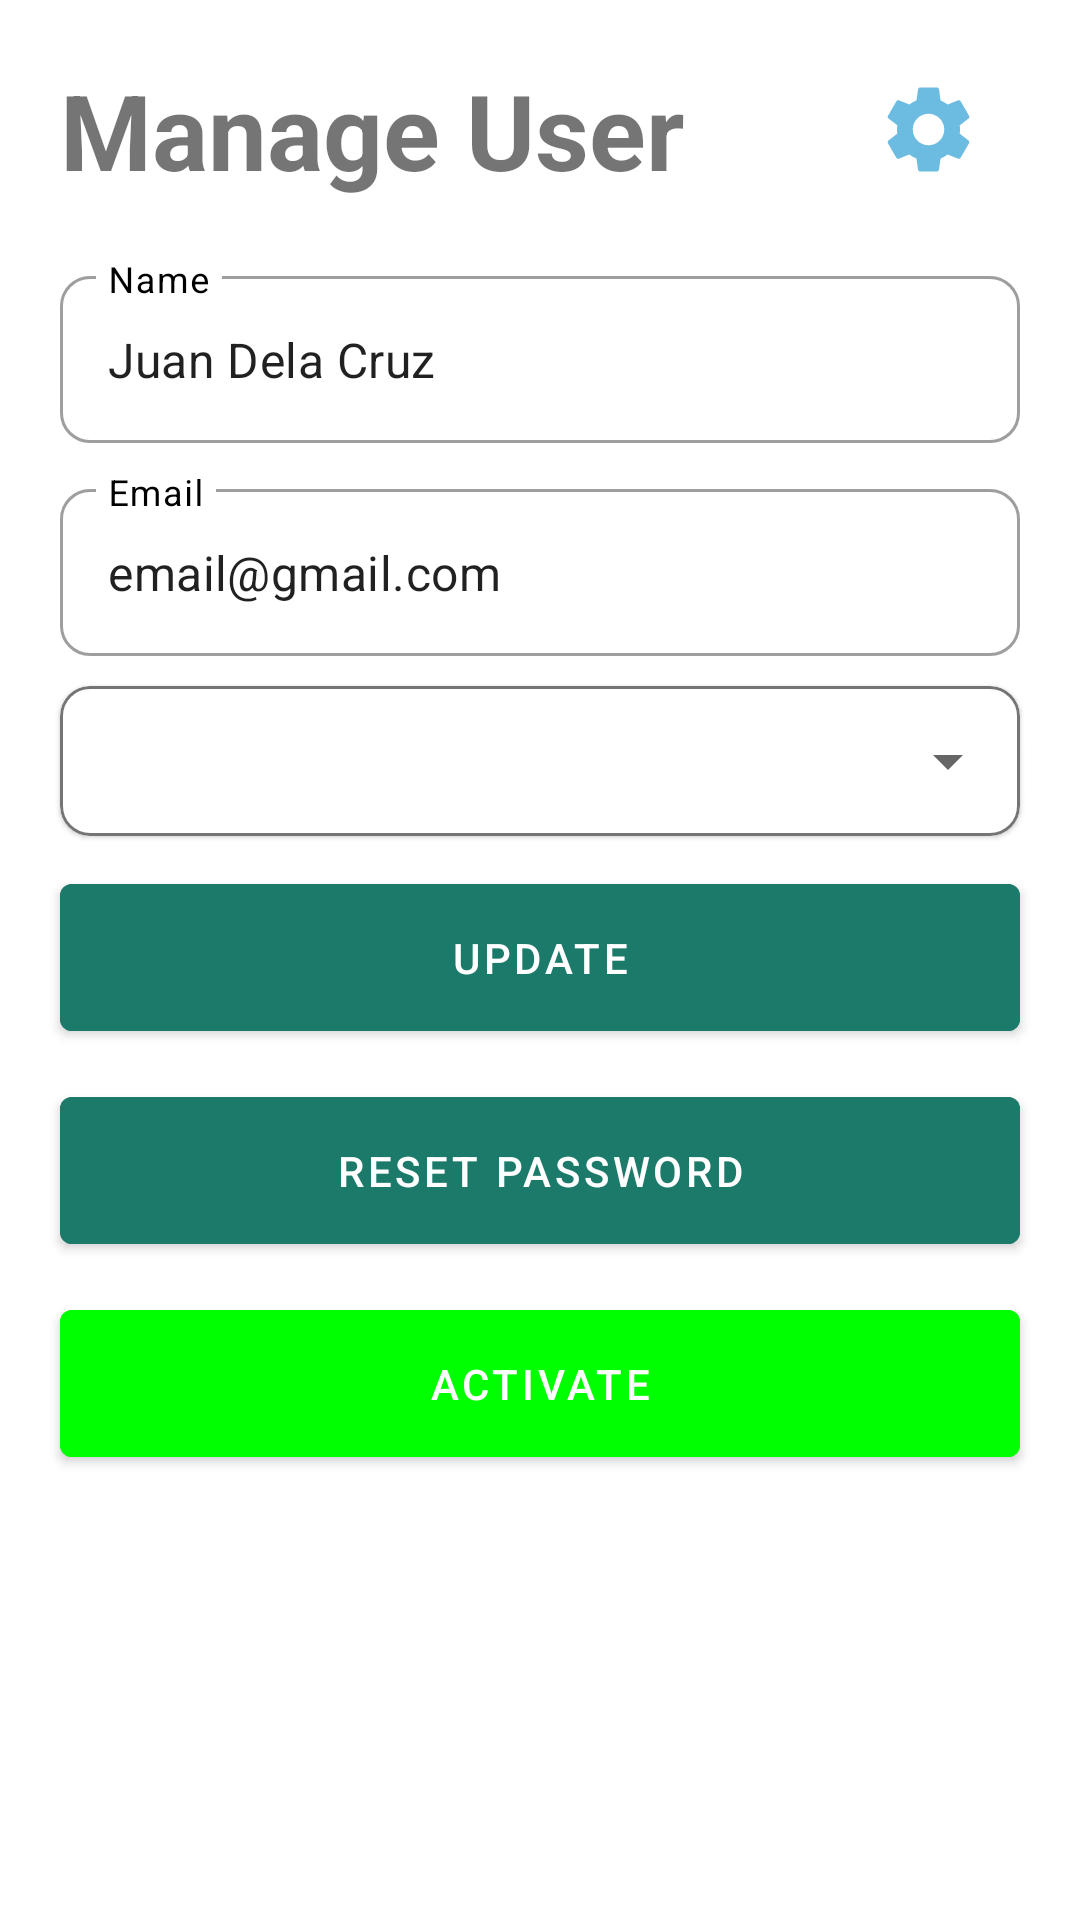

Screen size 1080x1920. Icon name, then its box in pixels as (x1, y1, x2, y2):
settings: (887, 87, 970, 172)
